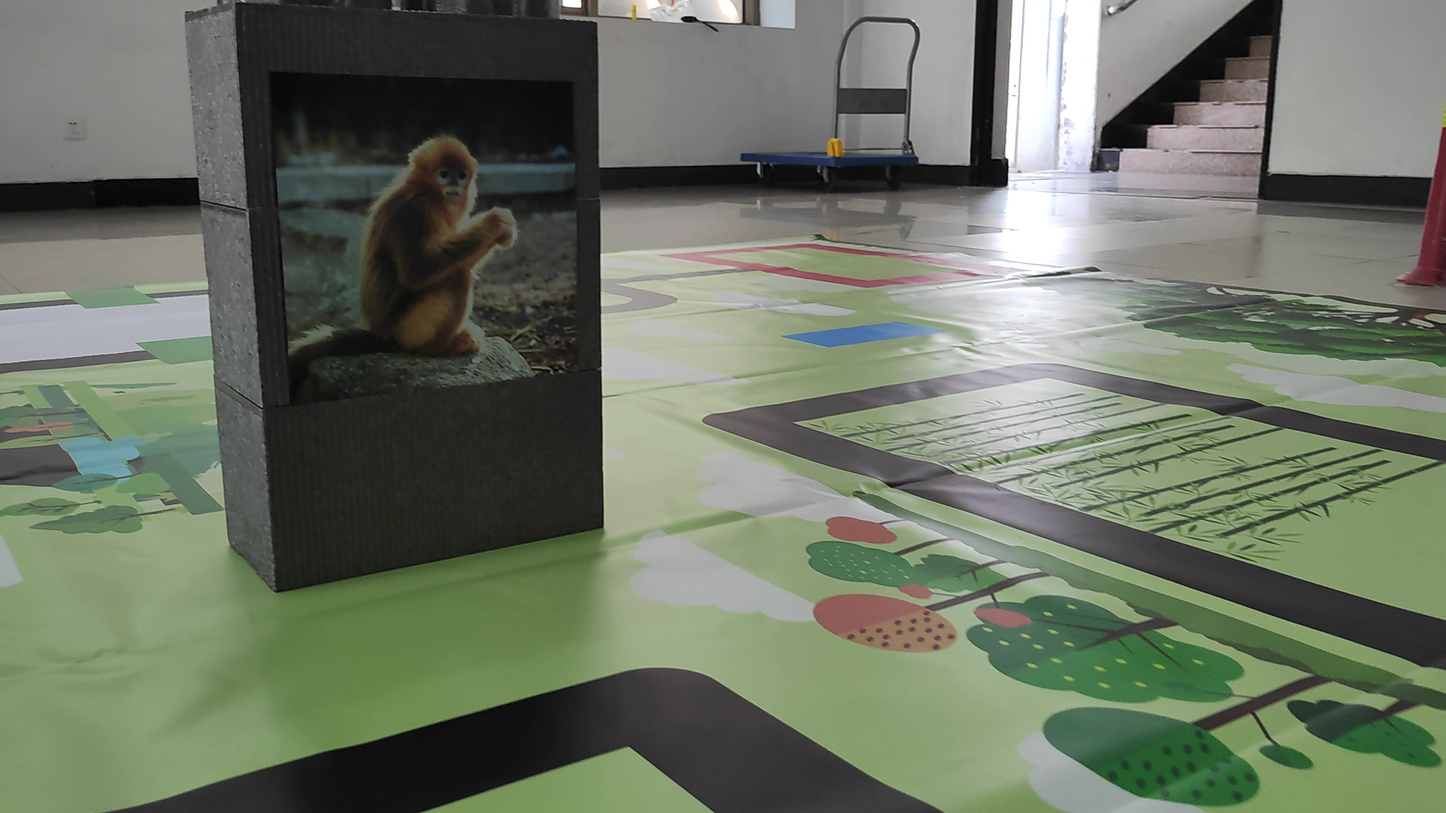monkey: (283, 111, 574, 408)
